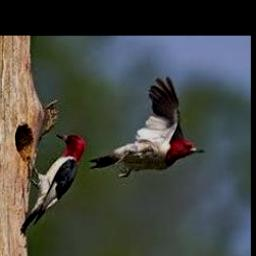Woodpecker: (89, 76, 205, 178), (20, 133, 87, 235)
